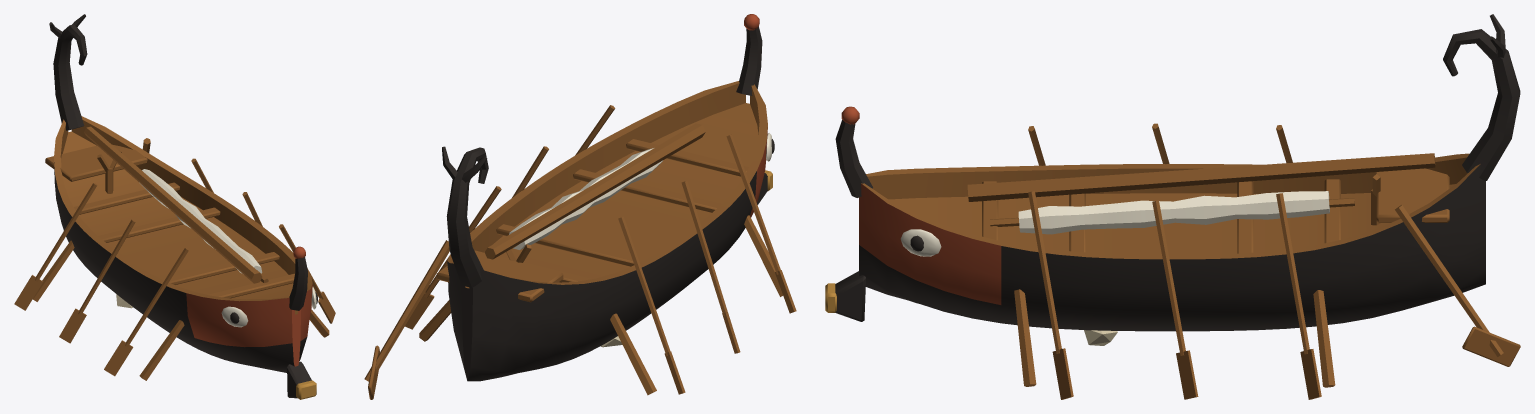
Rendered from ship.glb.
3 views of the same model, side by side, from view 1: azimuth 30°, elevation 25°; view 2: azimuth 150°, elevation 25°; view 3: azimuth 270°, elevation 25° (orthographic). The views are drawn at different scales.
Visible parts, largest first — view 1: ship; view 2: ship; view 3: ship.
Part boxes in pixels (left/top/right/bottom): ship: left=14, top=14, right=335, bottom=399; ship: left=364, top=14, right=796, bottom=399; ship: left=825, top=14, right=1520, bottom=399.
Bounding box in the file's own units: 1.02 × 0.9139 × 1.91.
